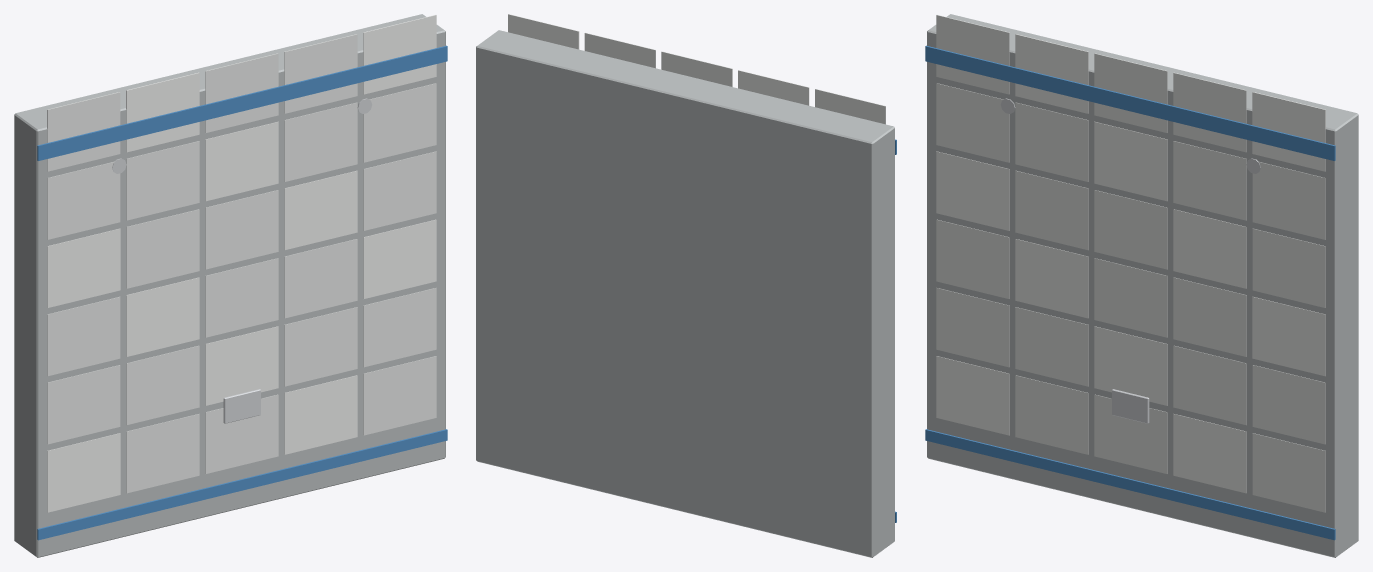
File: public-swimming-baths-and-poolside-pool-tank-wall-sect-566f766a__35235.glb
3 renders of one model, left to right at view 1: azimuth 30°, elevation 25°; view 2: azimuth 150°, elevation 25°; view 3: azimuth 330°, elevation 25°, orthographic. The views are drawn at different scales.
Visible parts, largest first — view 1: pool-tank-wall-section; view 2: pool-tank-wall-section; view 3: pool-tank-wall-section.
Boxes of the visible parts, x1,y1,x2,y2 form: pool-tank-wall-section: [14, 14, 447, 557]; pool-tank-wall-section: [476, 14, 896, 557]; pool-tank-wall-section: [925, 14, 1358, 557].
Bounding box in the file's own units: 2 × 2.12 × 0.21.
